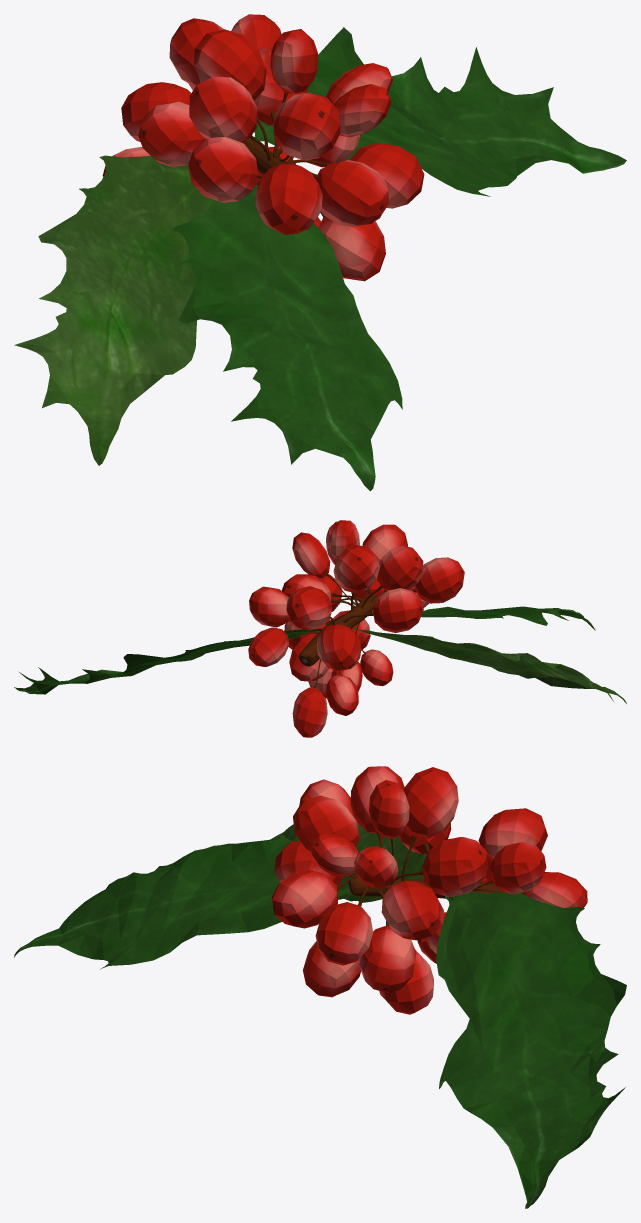
The model's file is leaf_3.obj.
3 views of the same model, one above another, from view 1: azimuth 30°, elevation 25°; view 2: azimuth 150°, elevation 25°; view 3: azimuth 270°, elevation 25° (orthographic). The views are drawn at different scales.
Parts seen in each view (by area): view 1: Object.1; view 2: Object.1; view 3: Object.1.
Boxes of the visible parts, x1=… form: Object.1: x1=14, y1=14, x2=626, y2=491; Object.1: x1=14, y1=520, x2=626, y2=737; Object.1: x1=14, y1=766, x2=626, y2=1208.
Size of the model in its own units: 212 by 80.54 by 175.
Materials: 1 (1 with a texture image).
